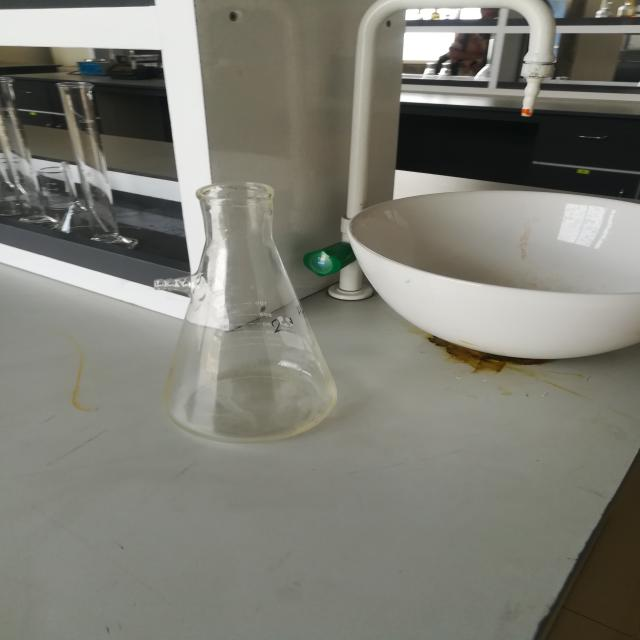Conical_Flask: (132, 128, 373, 462)
